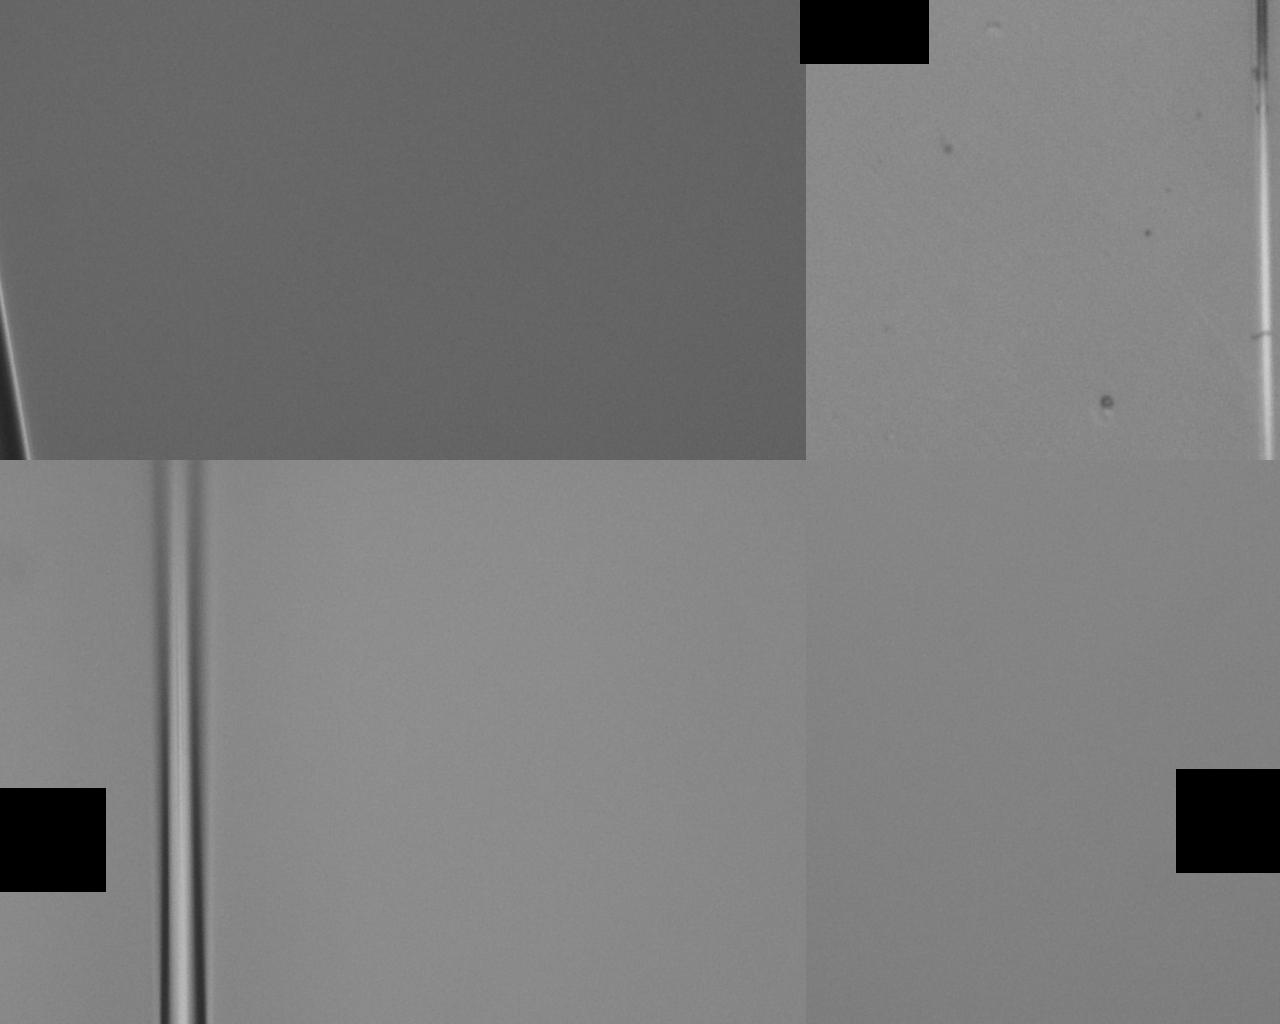fiber: (729, 793, 1280, 1024), (0, 321, 729, 438), (729, 236, 1280, 311)
